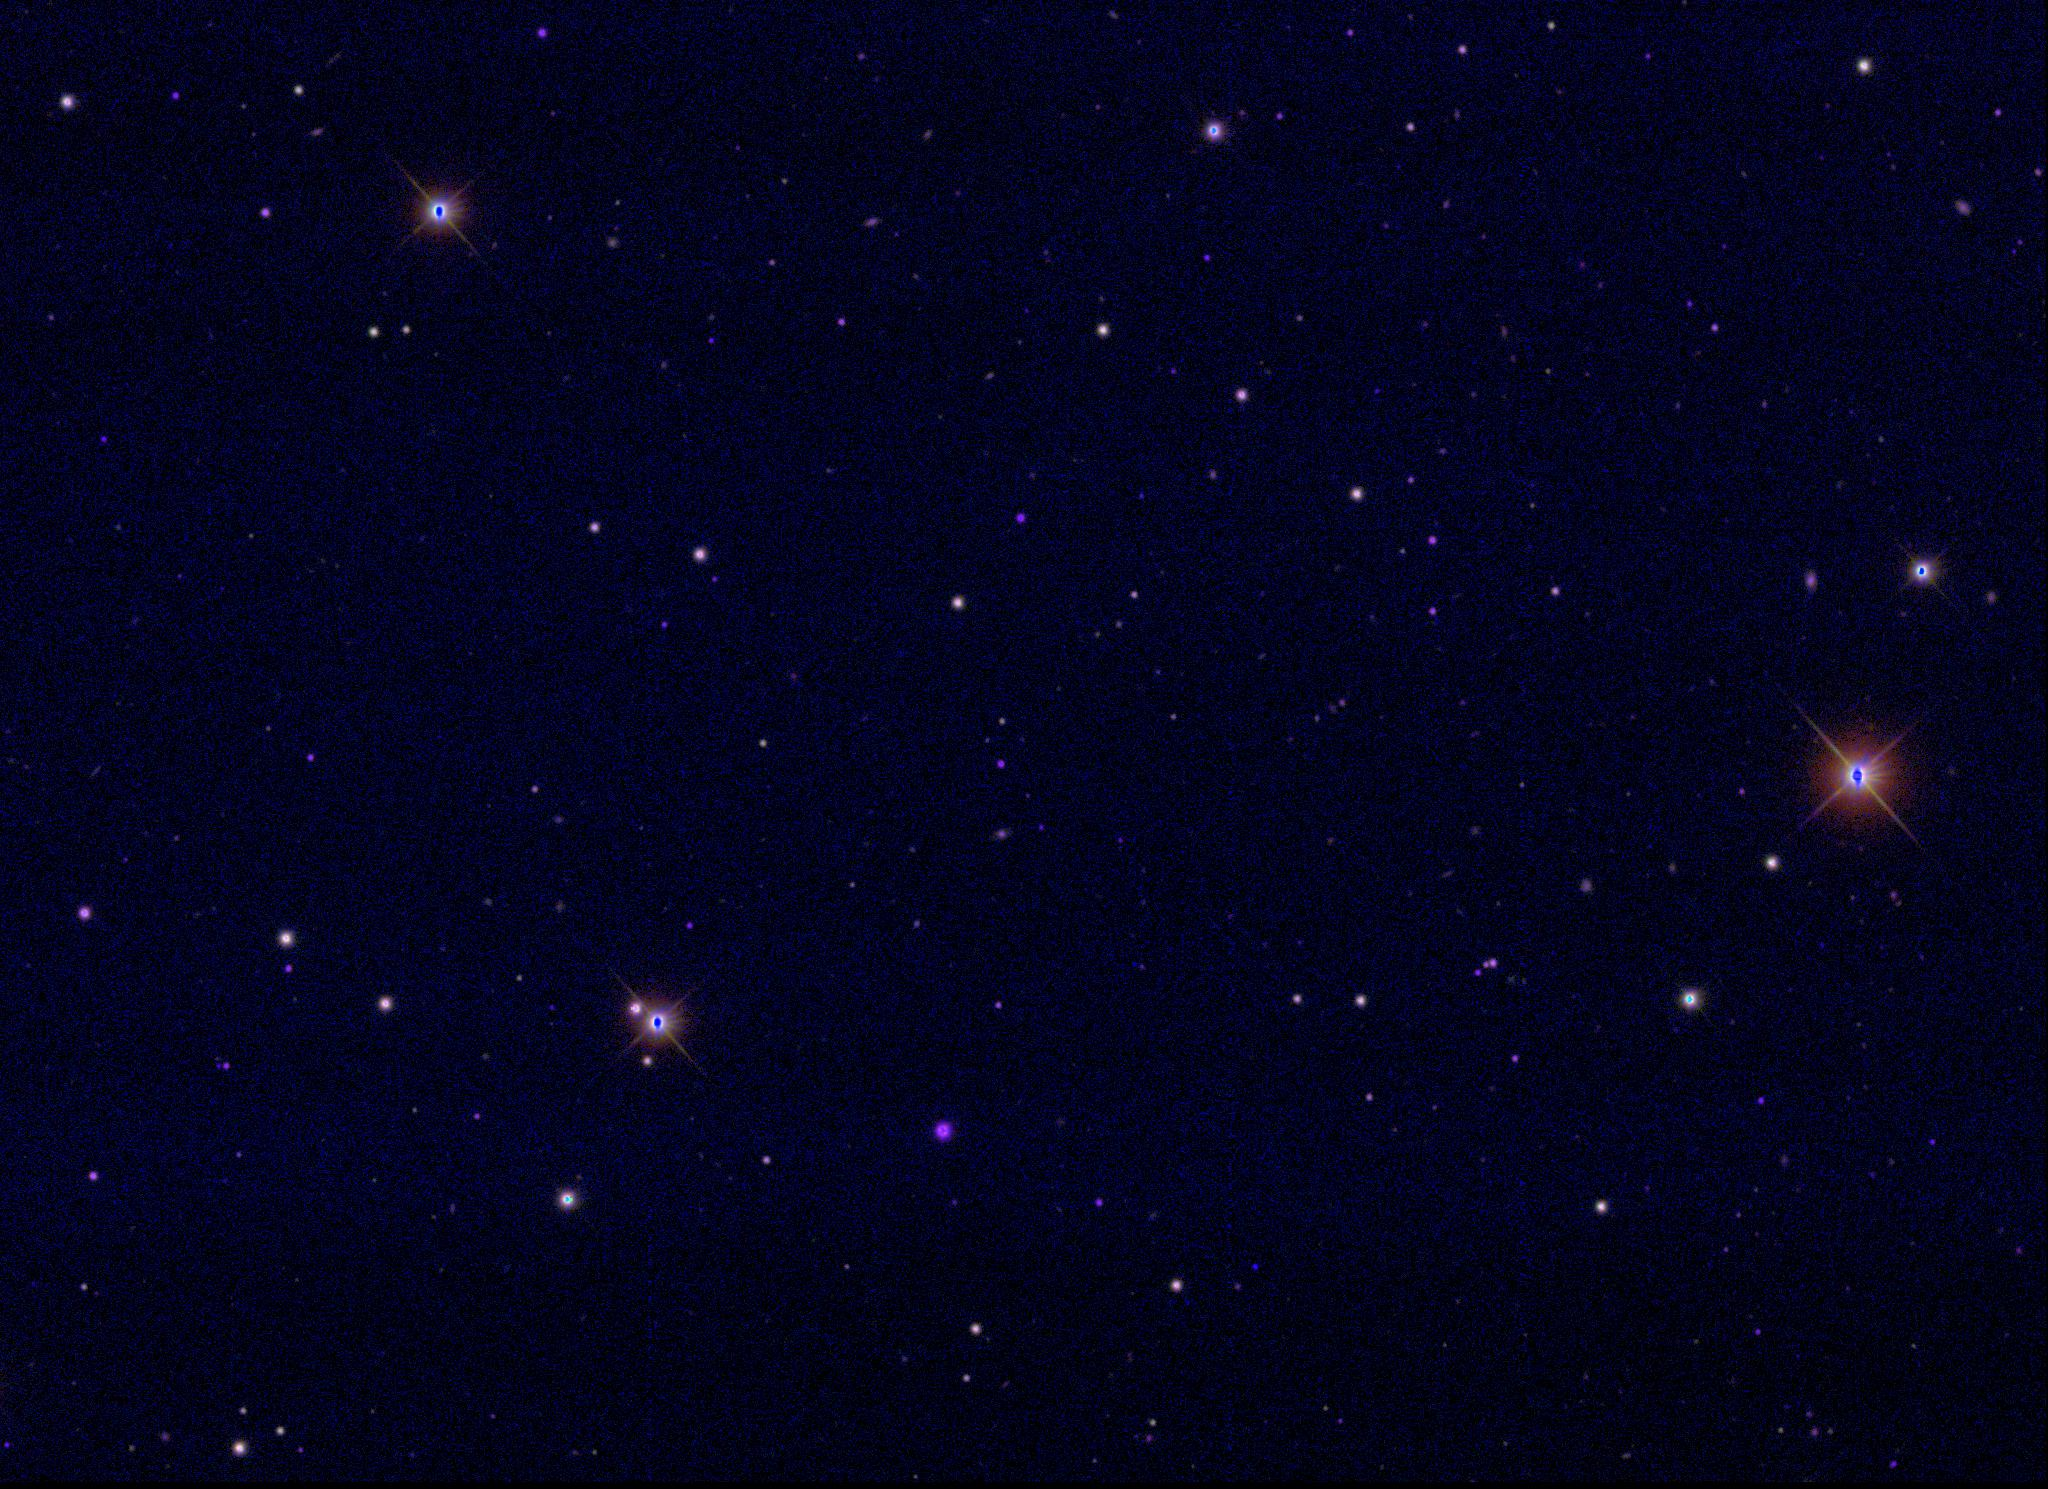L: (1250, 1257, 1263, 1271)
